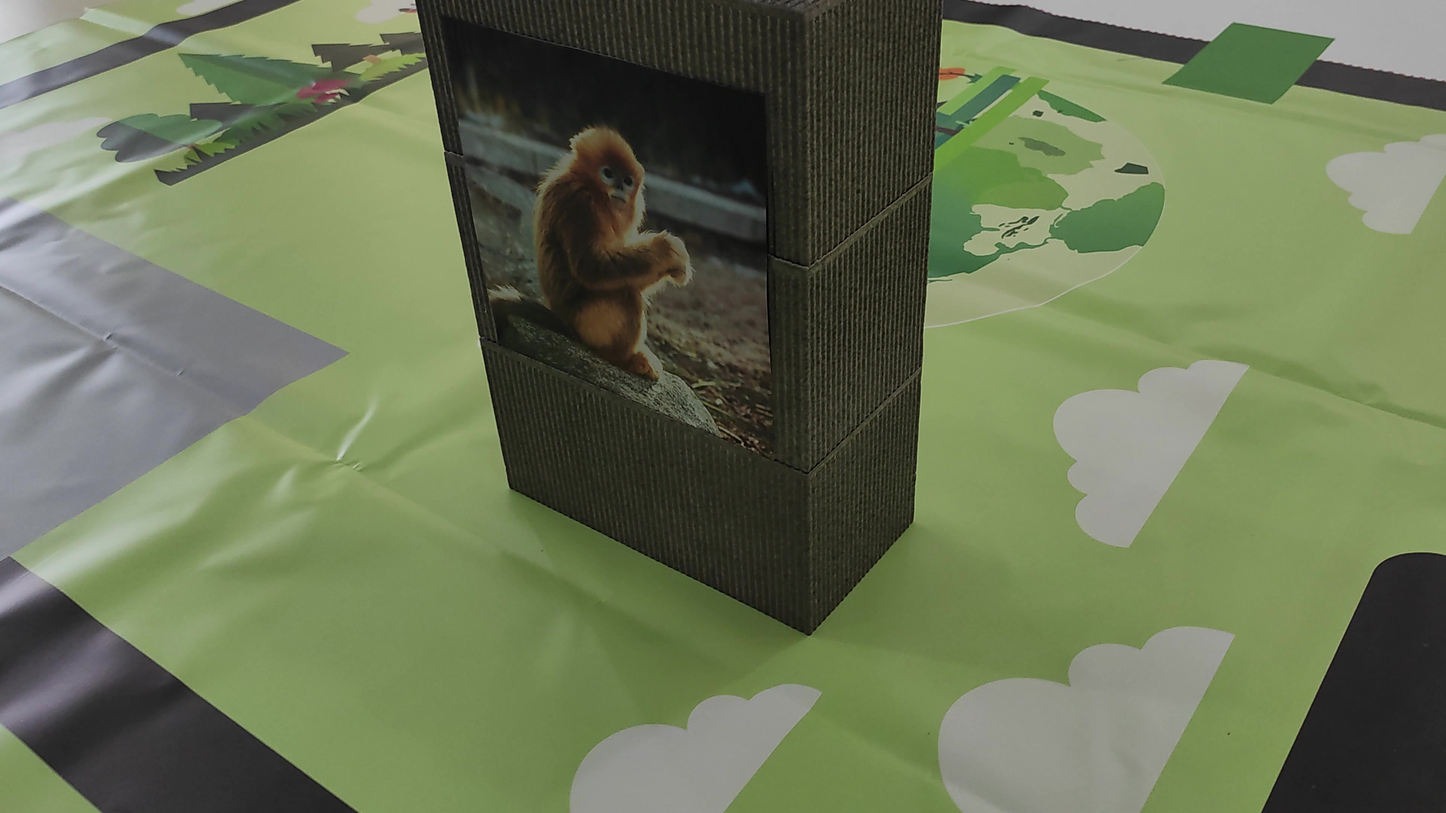monkey: (483, 91, 737, 371)
